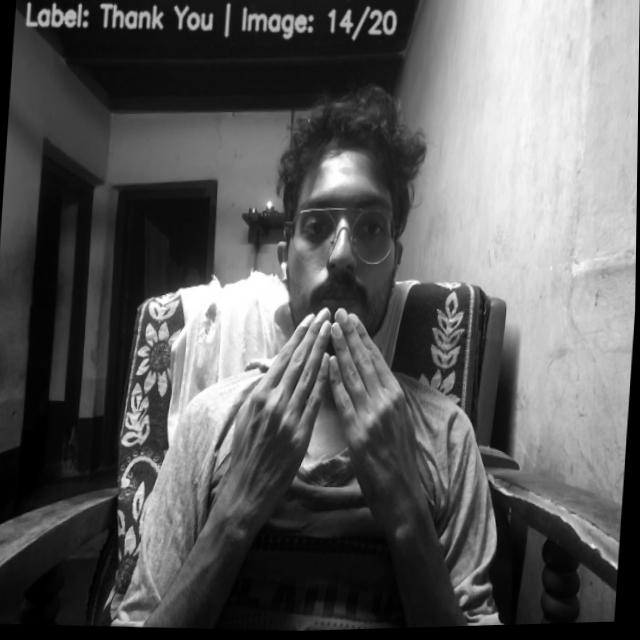Thank You: (227, 301, 435, 510)
